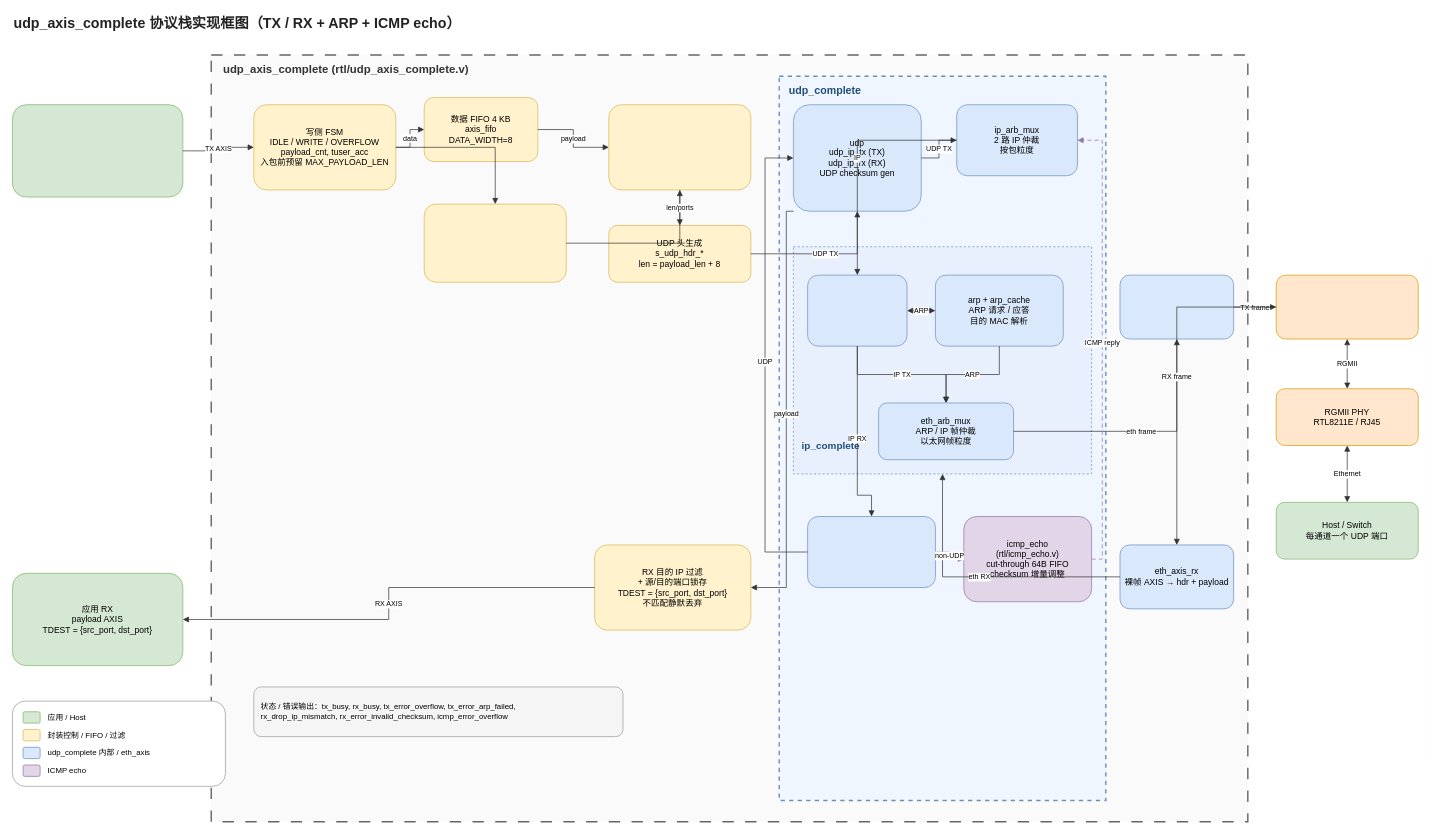
Image size: 1431x834. Some labels were removed from this diagram. The shapes that lost their labels are listed below. From the top down, each one's centre as x and y in pixels, then its label:
At (x=97, y=150): "应用 TX 每通道 packetizer axis_arb_mux TDEST = {src_port, dst_port}".
At (x=679, y=147): "读侧 FSM IDLE / HDR / SEND / DROP 按元数据长度精确搬运".
At (x=495, y=242): "元数据 FIFO axis_srl_fifo x8 {len, src_port, dst_port, tuser, drop}".
At (x=857, y=310): "ip IP TX / RX IP checksum".
At (x=1176, y=306): "eth_axis_tx hdr + payload → 裸帧 AXIS".
At (x=1347, y=306): "eth_mac_1g_rgmii MAC + TX/RX FIFO".
At (x=871, y=552): "IP 分类 protocol == 17 ? UDP / 非 UDP".
